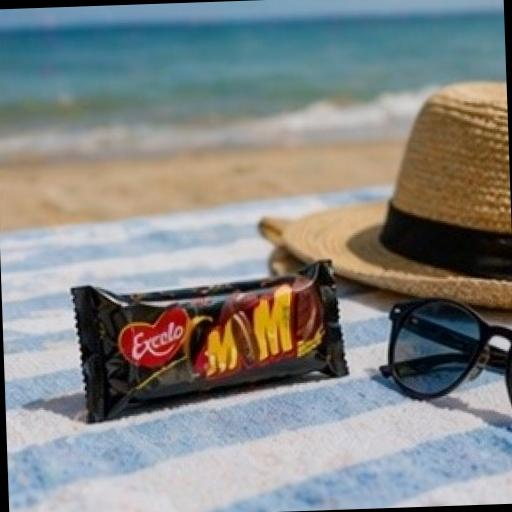MOMO: (33, 227, 406, 447)
